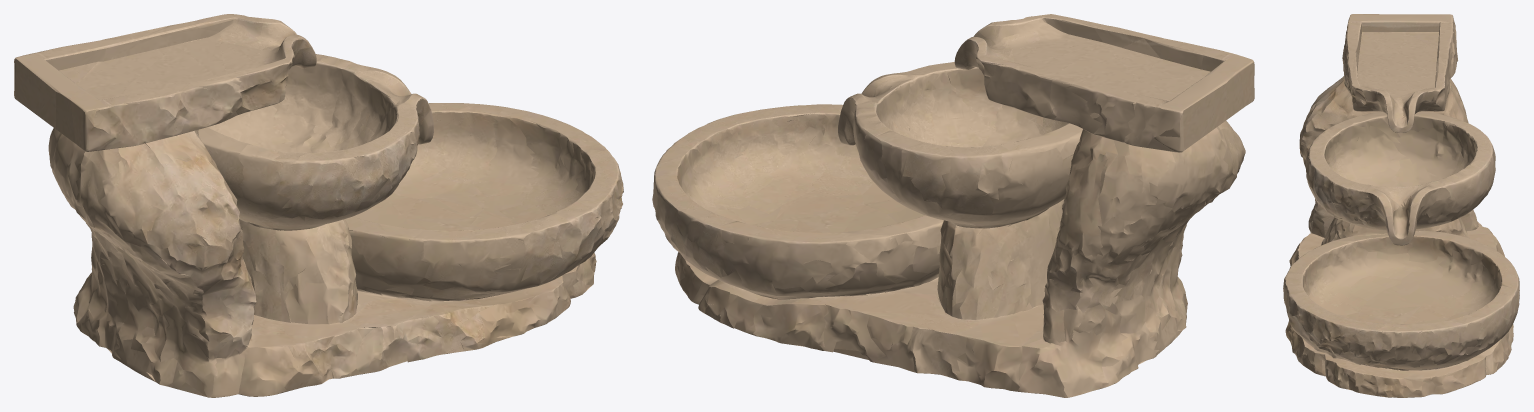
File: fountain.glb
The picture shows the model from 3 angles, left to right: view 1: azimuth 30°, elevation 25°; view 2: azimuth 150°, elevation 25°; view 3: azimuth 270°, elevation 25°; orthographic projection. The views are drawn at different scales.
Visible parts, largest first — view 1: Mesh_0; view 2: Mesh_0; view 3: Mesh_0.
Boxes of the visible parts, x1=… form: Mesh_0: x1=14, y1=14, x2=623, y2=397; Mesh_0: x1=652, y1=14, x2=1254, y2=397; Mesh_0: x1=1283, y1=14, x2=1519, y2=397.
Bounding box in the file's own units: 1.9 × 0.9595 × 1.01.
1 material, 1 textured.
